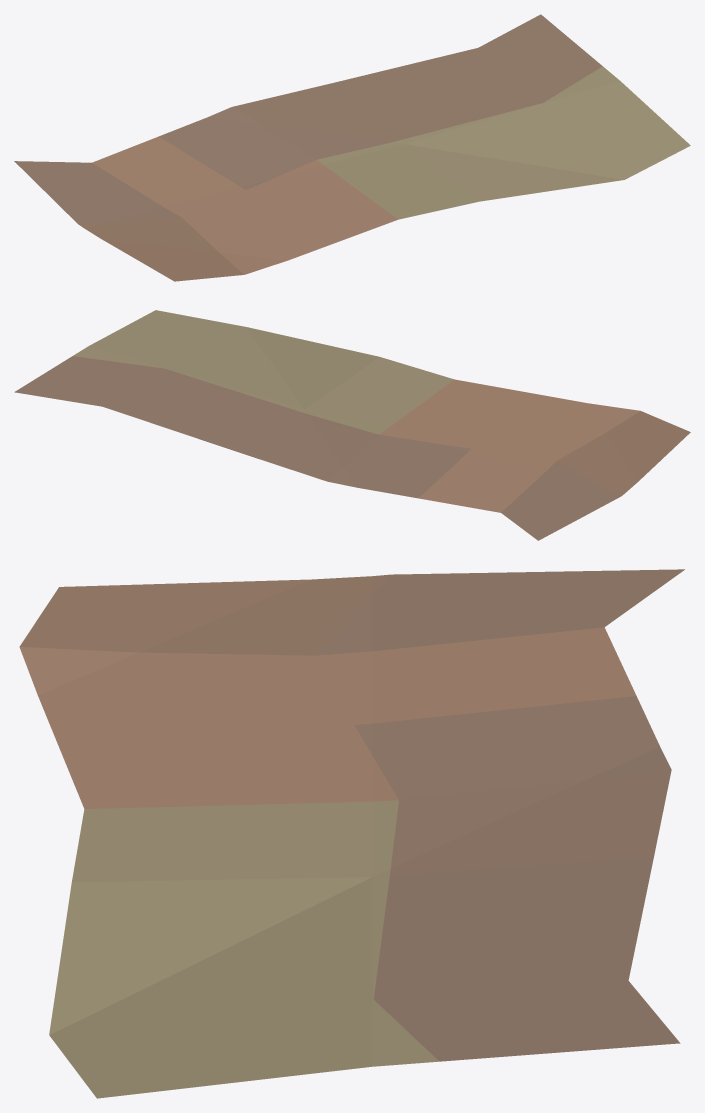
File: farm_6_26_soil.glb
3 views of the same model, one above another, from view 1: azimuth 30°, elevation 25°; view 2: azimuth 150°, elevation 25°; view 3: azimuth 270°, elevation 25° (orthographic). The views are drawn at different scales.
Parts seen in each view (by area): view 1: geometry_0; view 2: geometry_0; view 3: geometry_0.
Part boxes in pixels (bbox=[...]): geometry_0: bbox=[14, 14, 690, 281]; geometry_0: bbox=[14, 310, 690, 540]; geometry_0: bbox=[19, 569, 684, 1098].
Size of the model in its own units: 125 by 7.1 by 67.02.
